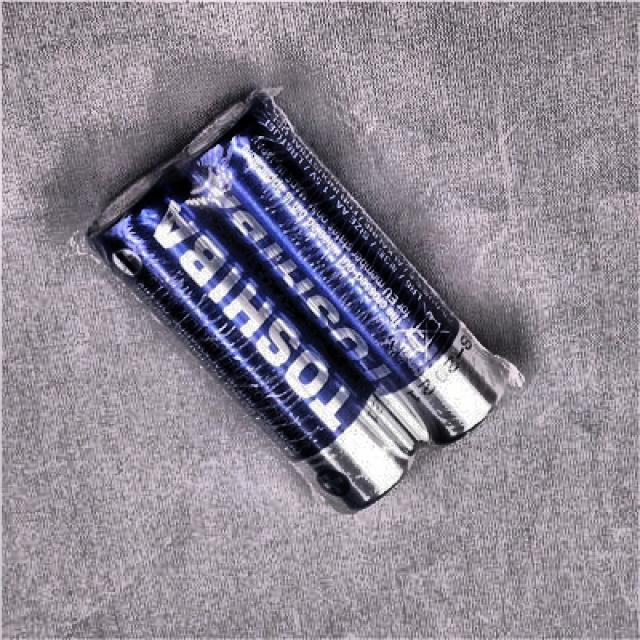Non-Valuable Waste - Batteries: (89, 91, 520, 509)
